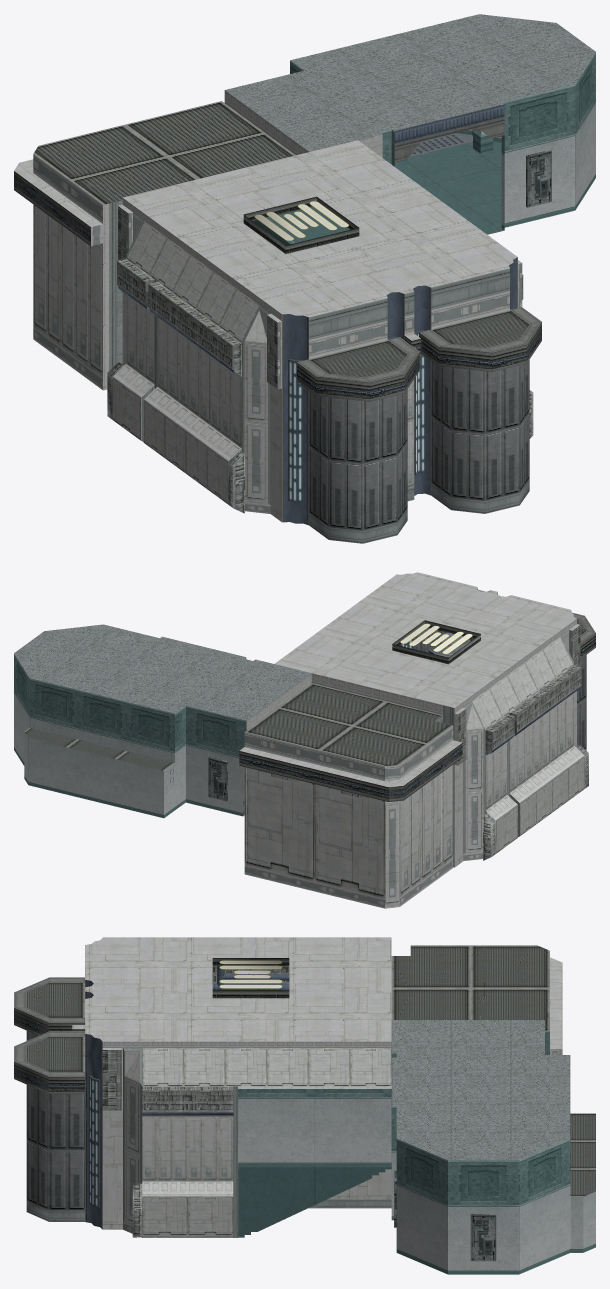
The model's file is ply_nboo_cloning_facility_s01_r4_cloninglab_mesh_r4.fbx.
3 views of the same model, one above another, from view 1: azimuth 30°, elevation 25°; view 2: azimuth 150°, elevation 25°; view 3: azimuth 270°, elevation 25° (orthographic). The views are drawn at different scales.
Parts seen in each view (by area): view 1: mesh_node; view 2: mesh_node; view 3: mesh_node.
Part boxes in pixels (bbox=[...]): mesh_node: bbox=[14, 14, 595, 543]; mesh_node: bbox=[14, 572, 595, 908]; mesh_node: bbox=[14, 937, 595, 1274].
Size of the model in its own units: 22.05 by 8.47 by 22.78.
